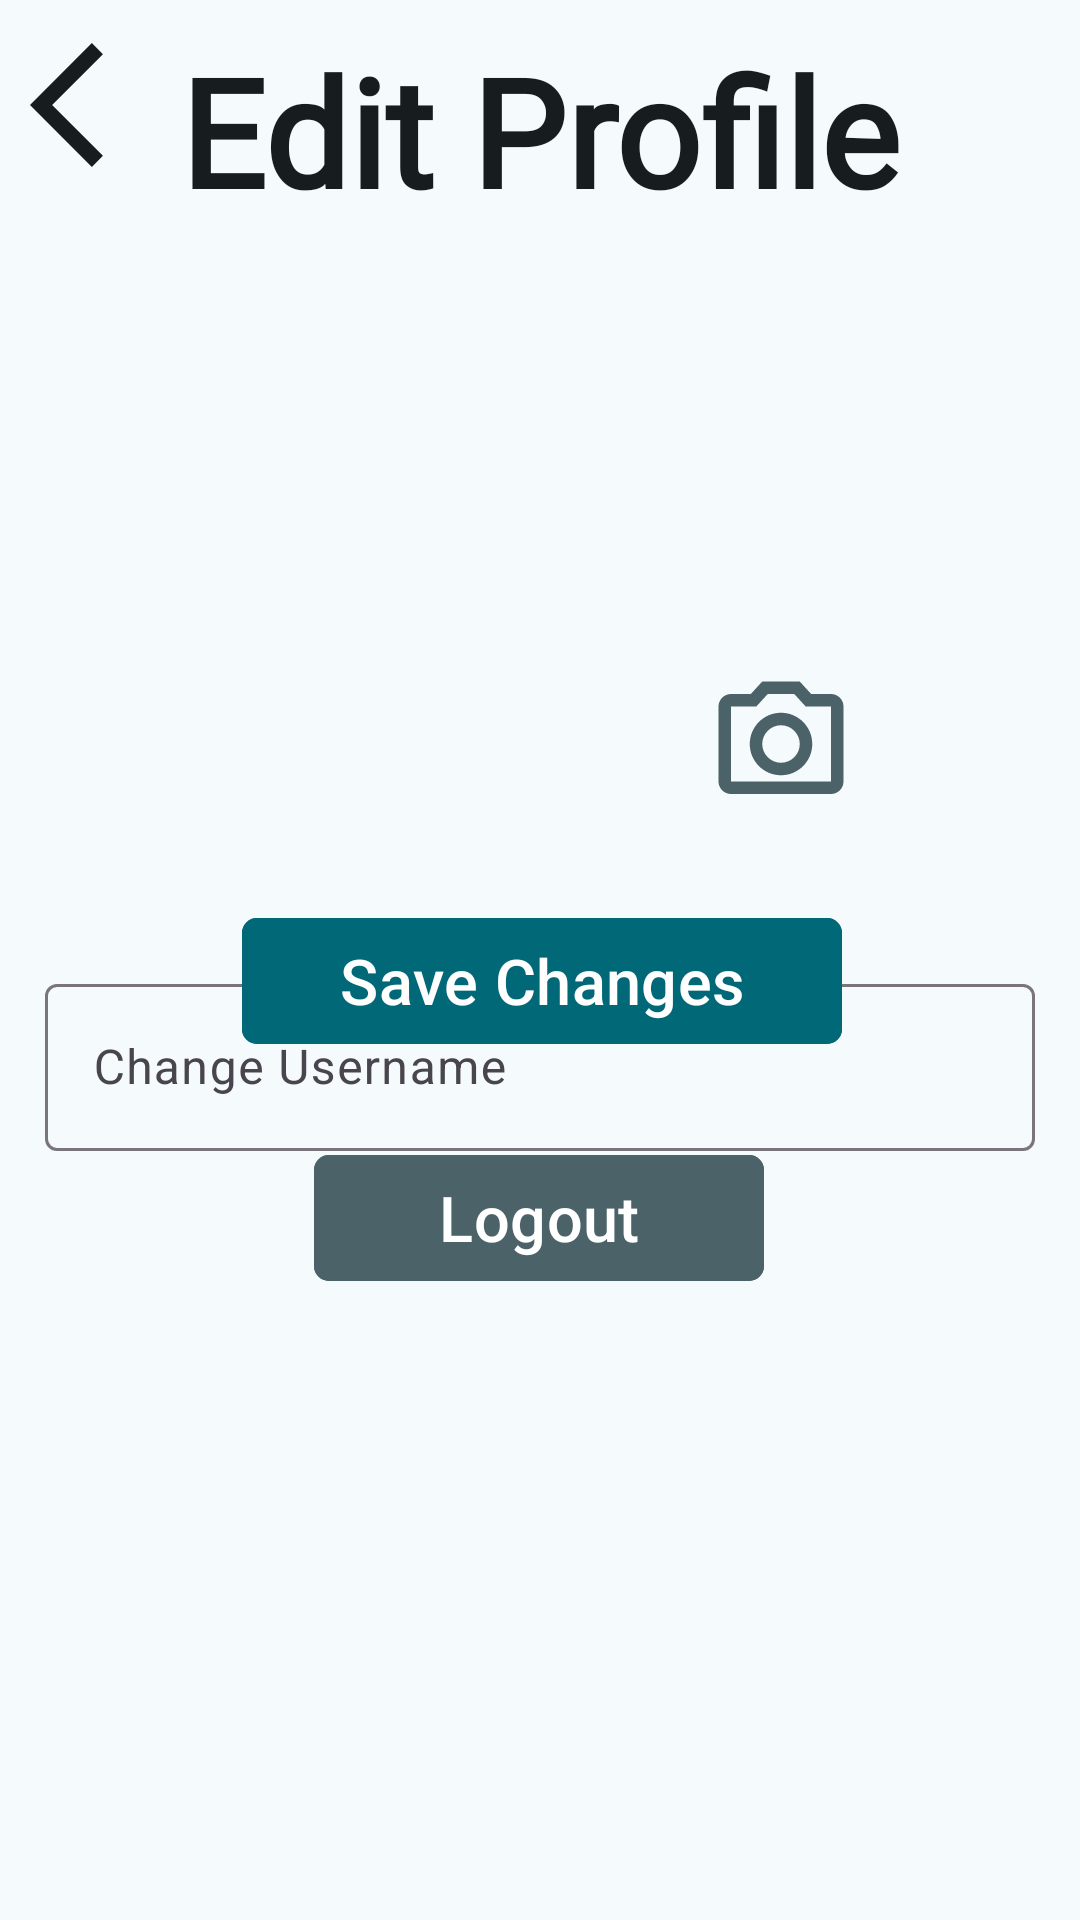

Point at icon controls on the screen. Image size 1080w x 1920h, points as (x,y).
arrow back: (66,105)
camera: (781,737)
